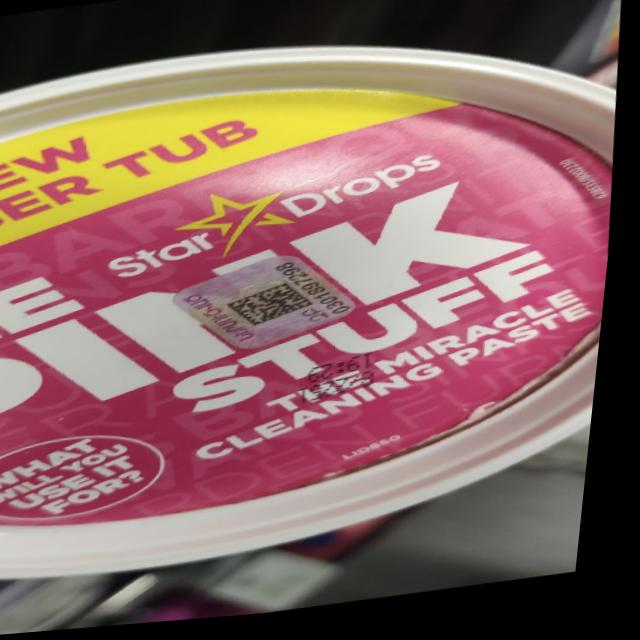datamatrix: (230, 285, 325, 337)
